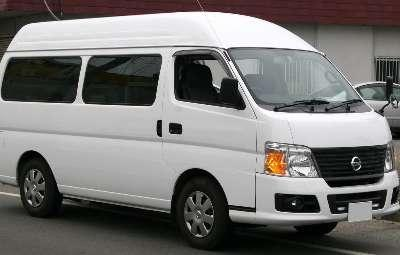car: (1, 9, 400, 244)
